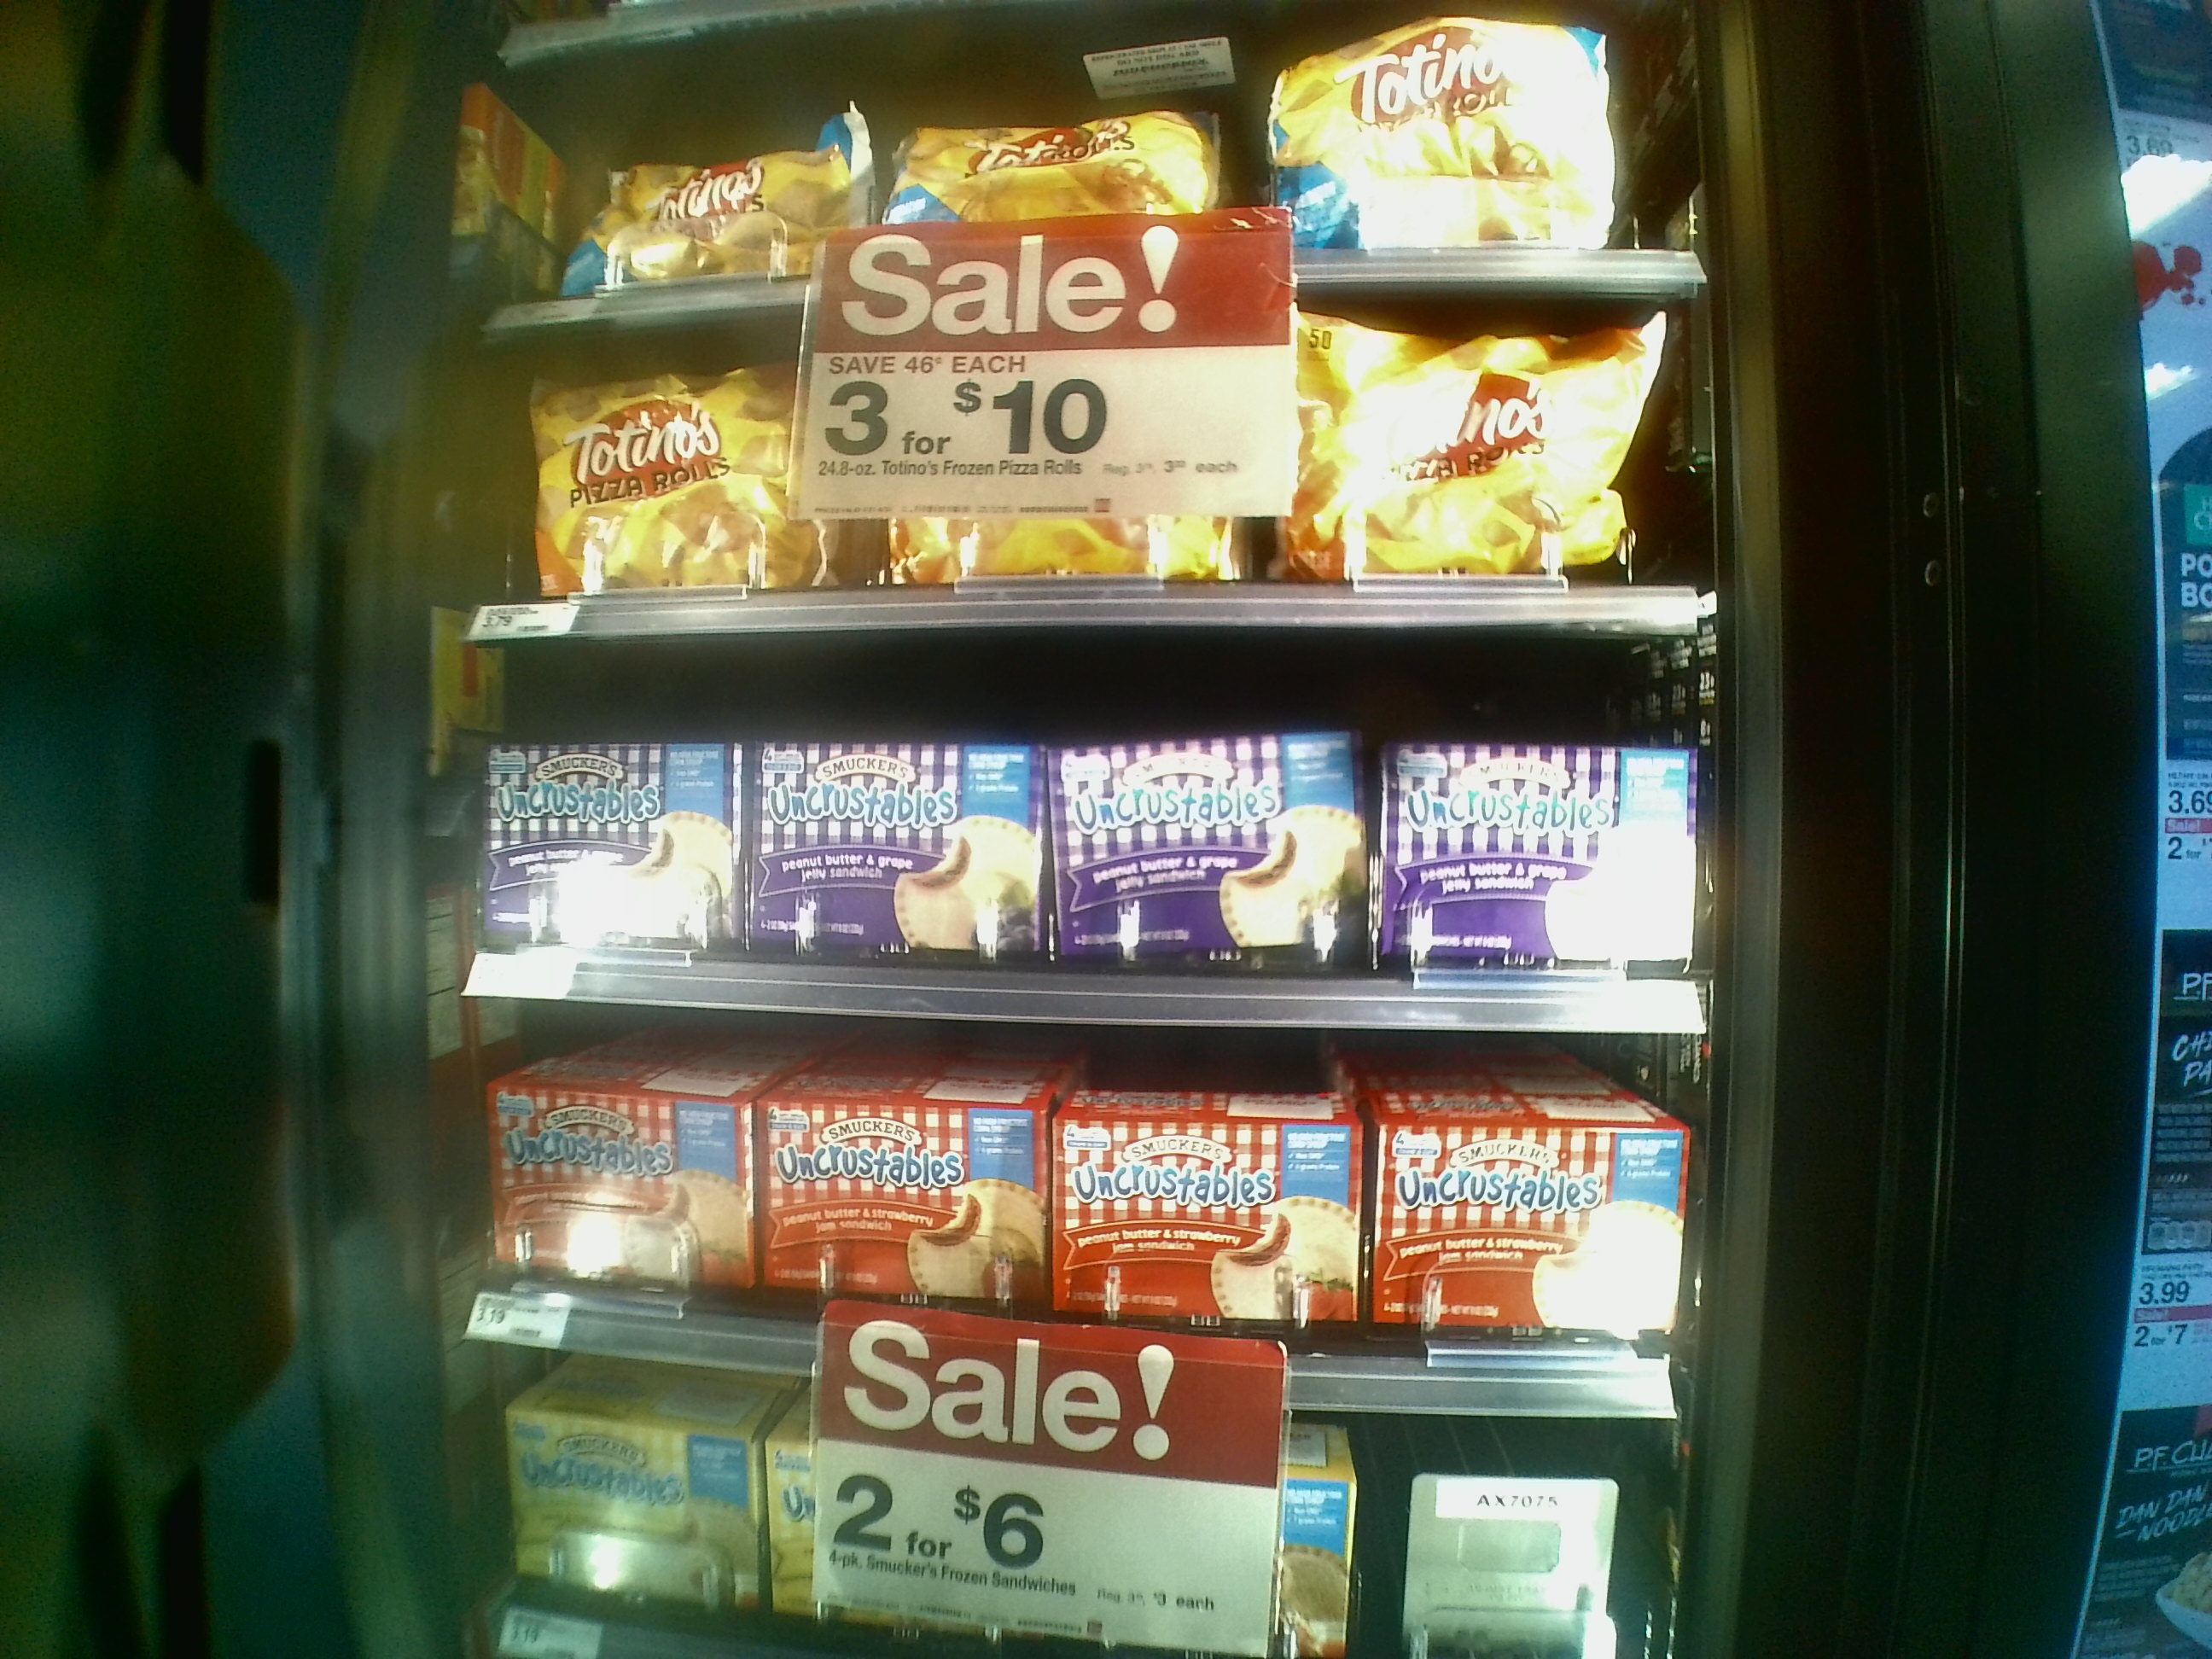shelf: (432, 1006, 1677, 1413), (444, 647, 1695, 1030), (470, 321, 1707, 655)
